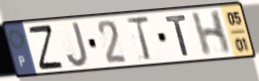2: (97, 19, 128, 65)
H: (190, 9, 233, 58)
J: (65, 20, 90, 69)
T: (124, 15, 153, 63), (163, 14, 191, 58)
Z: (26, 23, 65, 72)
